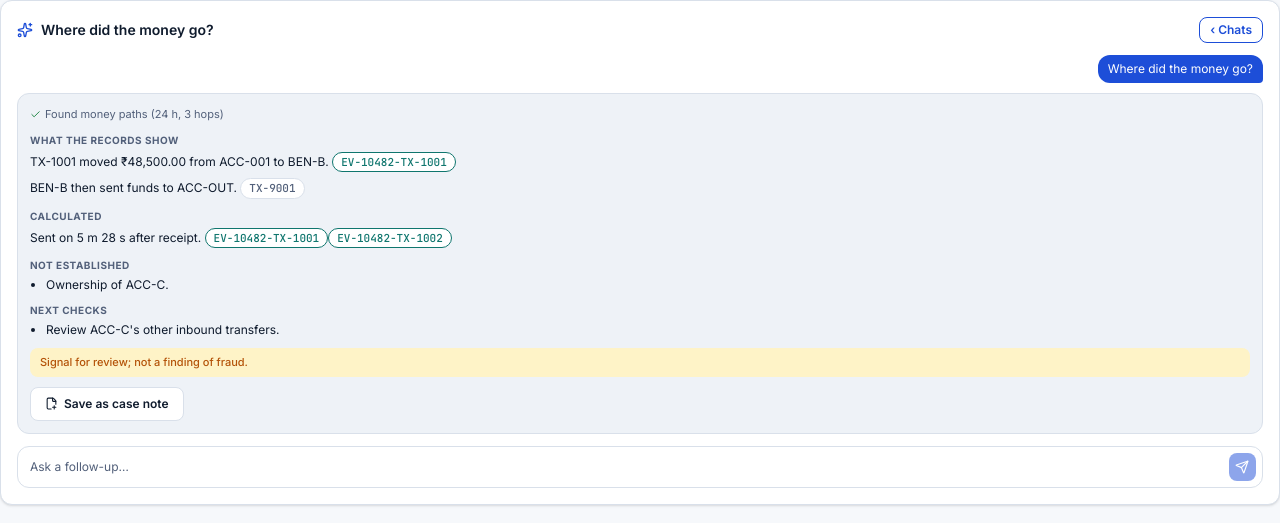
Test: CopilotPanel › a case with exactly one chat opens it by default; ‹ Chats shows the list
# Back to the list stays on the list: the auto-open happens once, on first load.
Step 1. Click the button with test id "copilot-bar-button" → (1231, 30), box [1199, 17, 1263, 43]
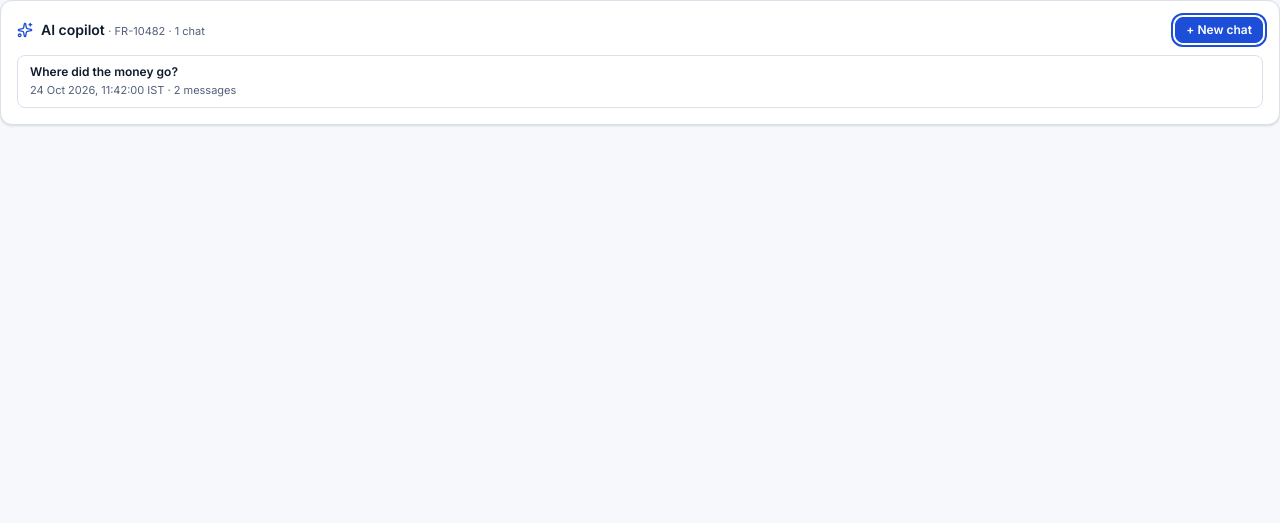
Check: the button with test id "copilot-bar-button" reads "+ New chat", box [1175, 17, 1263, 43]
Check: the text "· FR-10482 · 1 chat" is shown, box [108, 24, 205, 38]
Check: the button "Where did the money go?" is shown, box [17, 55, 1263, 108]
